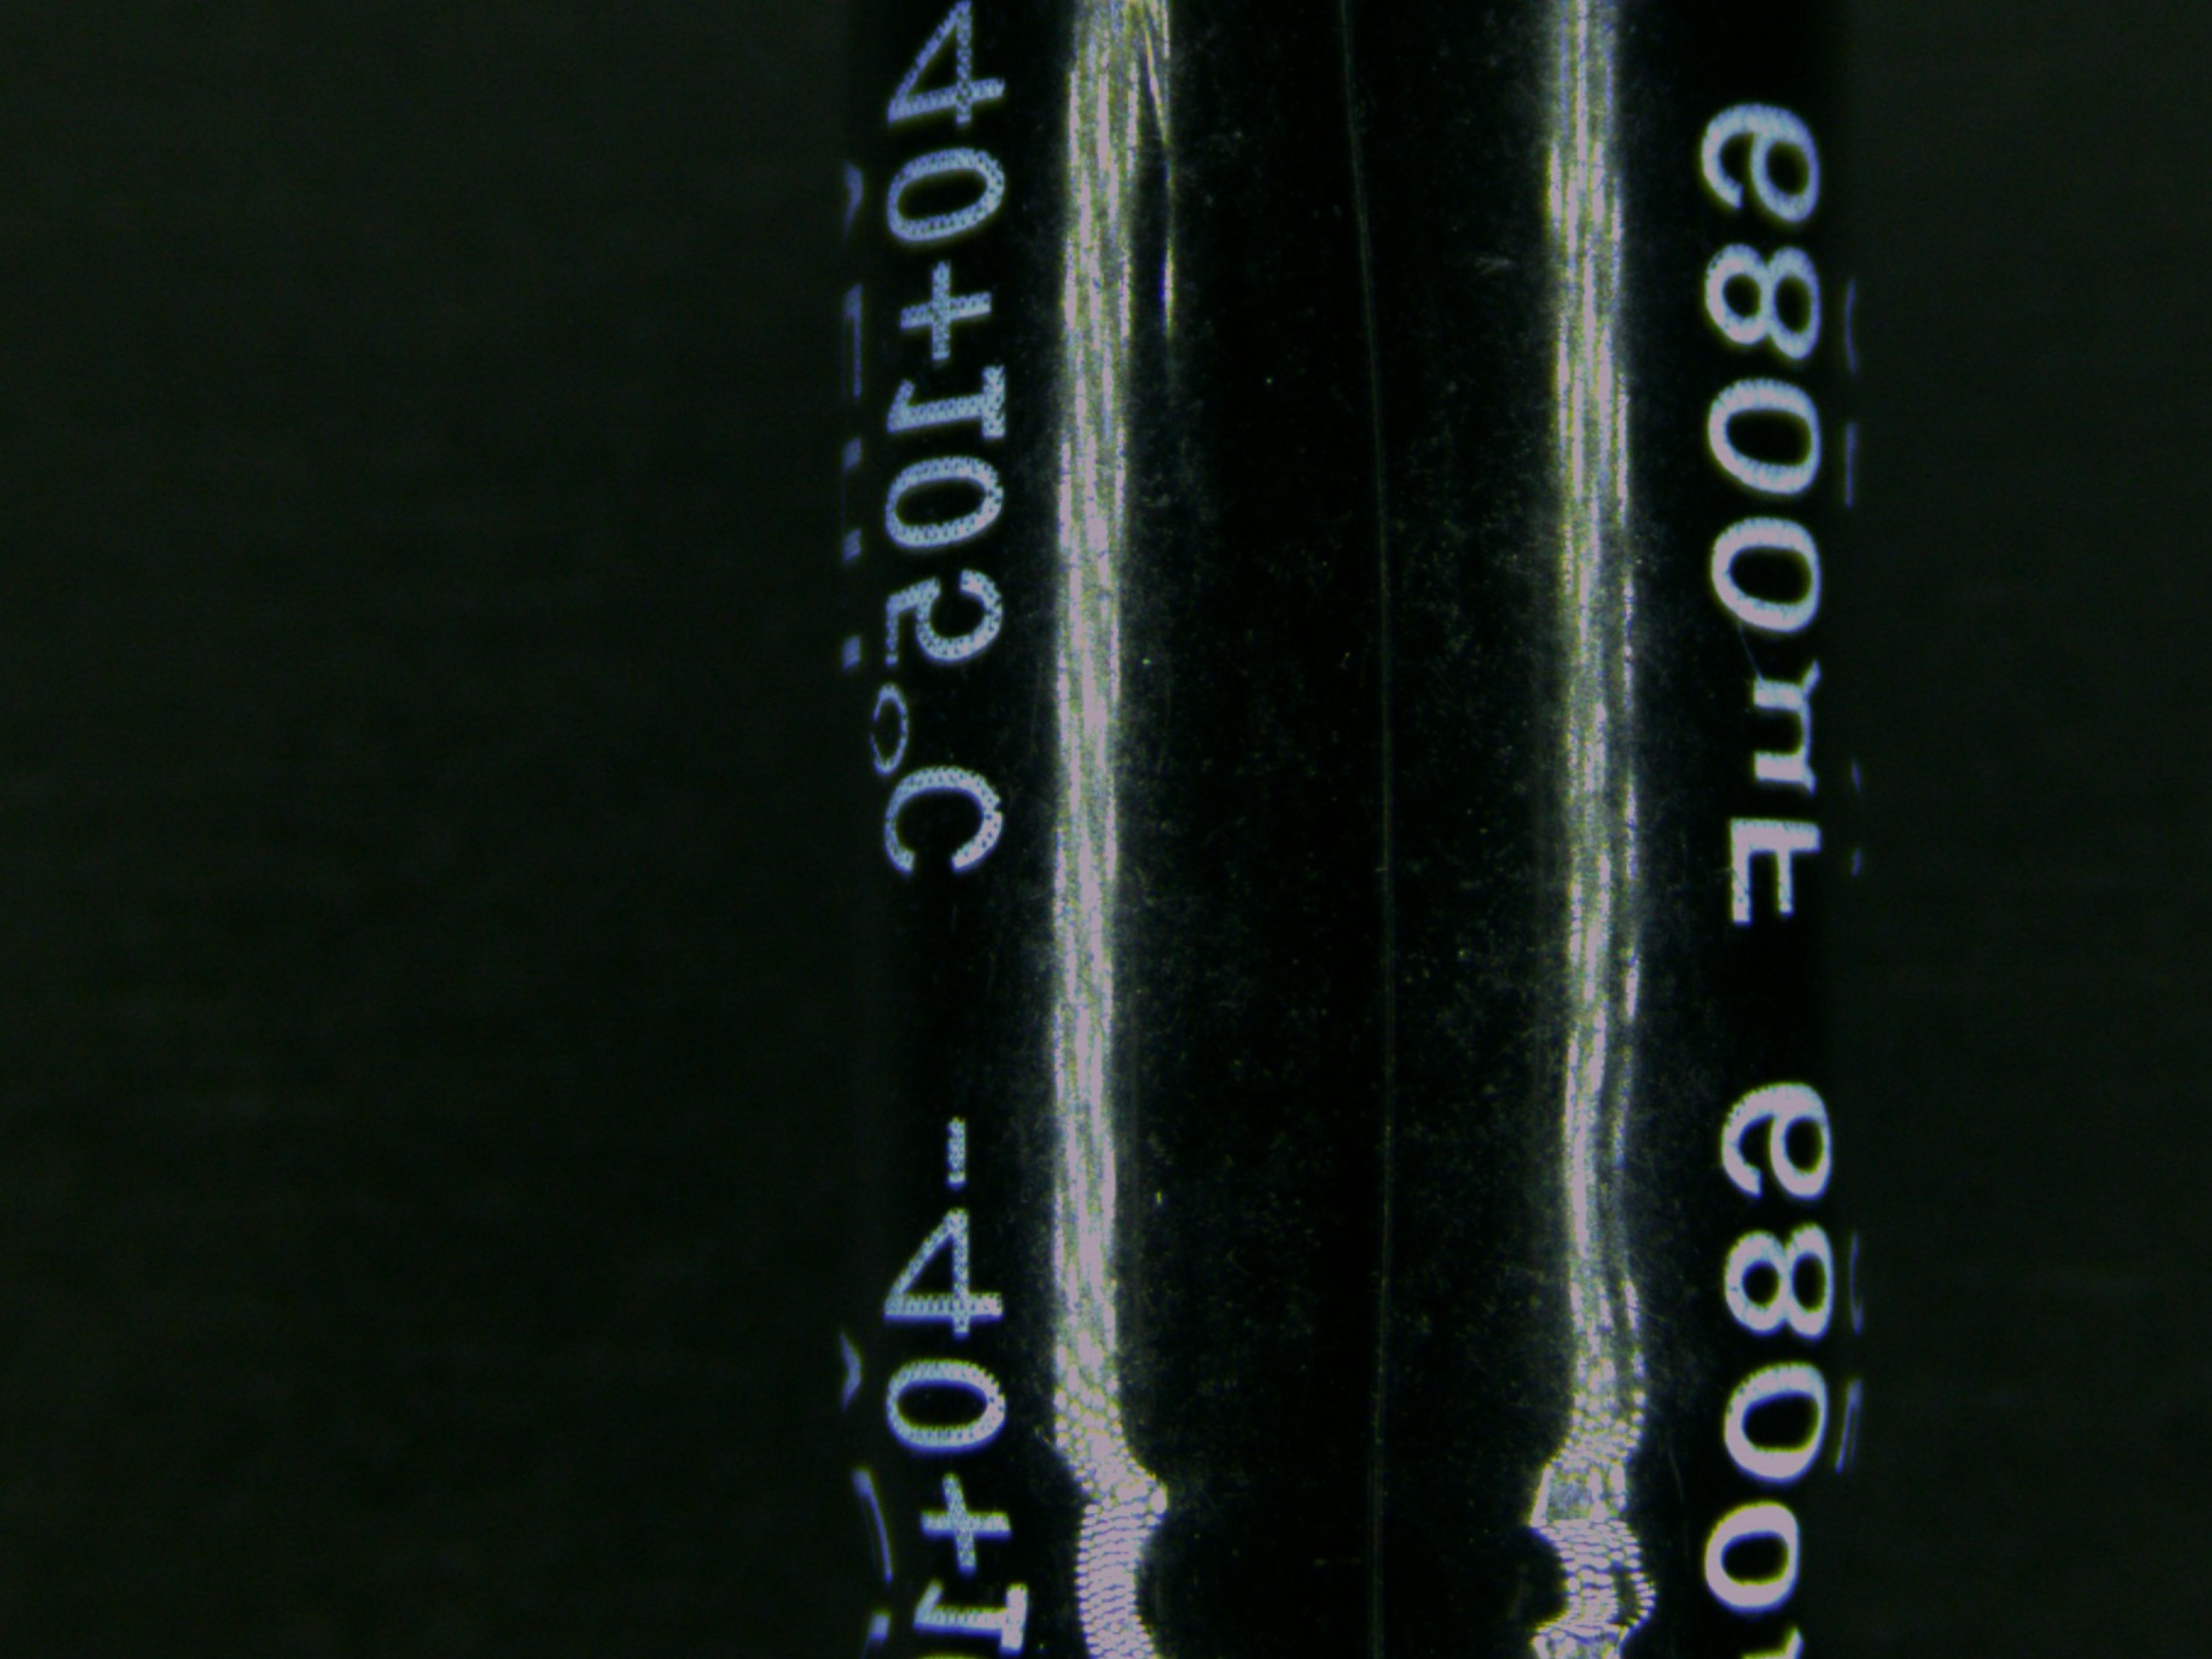c3: (820, 0, 1881, 1659)
